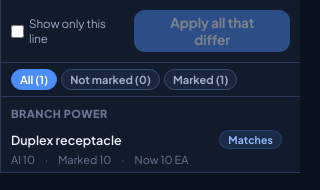
it: ItemsPanel — filter (UI round 1) › says so when the filter hides everything
Step 1. Click the button with test id "items-filter-not_marked" → coordinates (110, 80), box [61, 69, 160, 90]
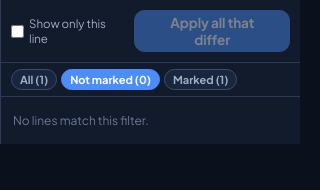
Result: the text "No lines match this filter." is shown at [13, 113, 149, 128]
